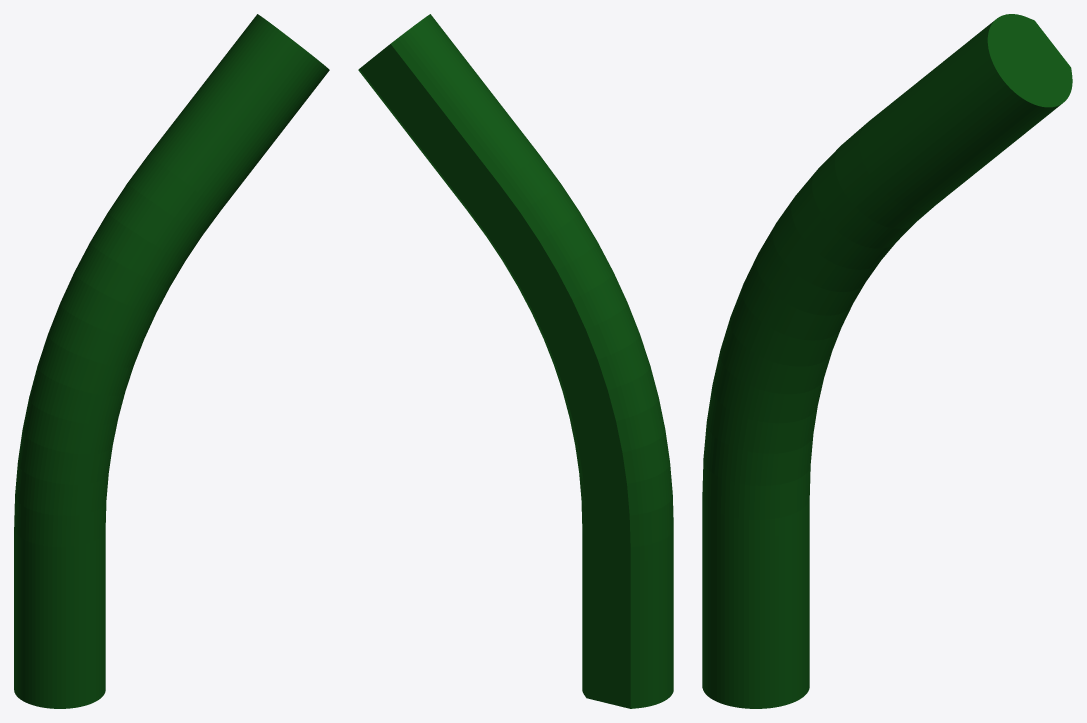
File: stem_1B_45R.glb
The picture shows the model from 3 angles, left to right: view 1: azimuth 30°, elevation 25°; view 2: azimuth 150°, elevation 25°; view 3: azimuth 330°, elevation 25°; orthographic projection. The views are drawn at different scales.
Parts seen in each view (by area): view 1: stem_1B_45R; view 2: stem_1B_45R; view 3: stem_1B_45R.
Boxes of the visible parts, box(x1,y1,x2,y2) form: stem_1B_45R: box(14, 14, 329, 708); stem_1B_45R: box(358, 14, 673, 708); stem_1B_45R: box(702, 14, 1072, 708).
Size of the model in its own units: 0.0274 by 0.0538 by 0.00666.
